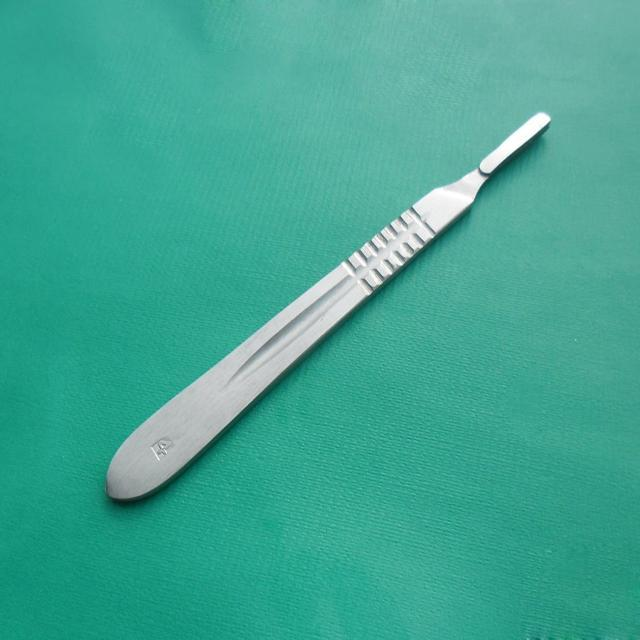Knife handle: (81, 104, 552, 512)
